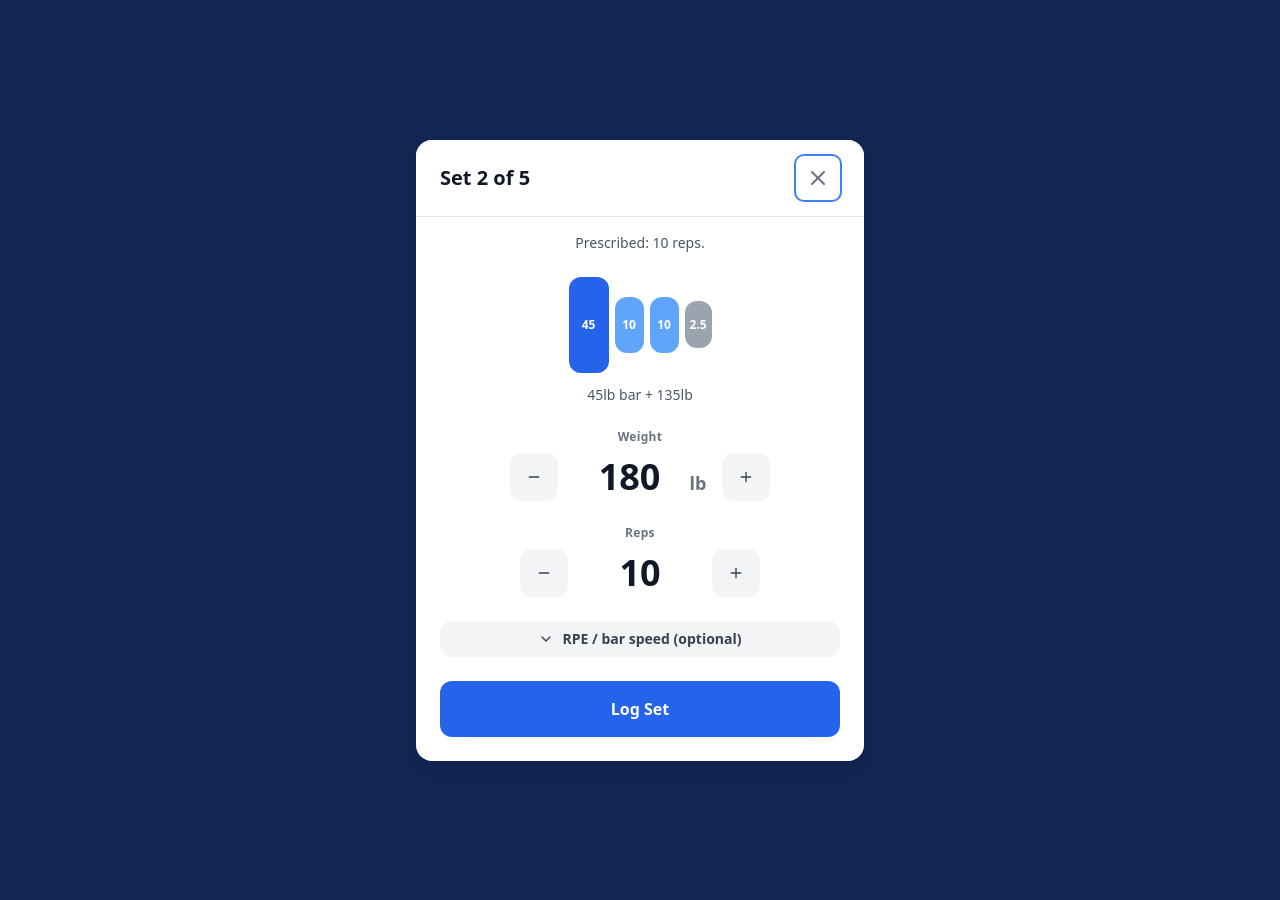
it: WorkingSetModal › steps weight by the plate increment and reps by one
Click the button named "Decrease weight" at (534, 476), box [510,452,558,500]
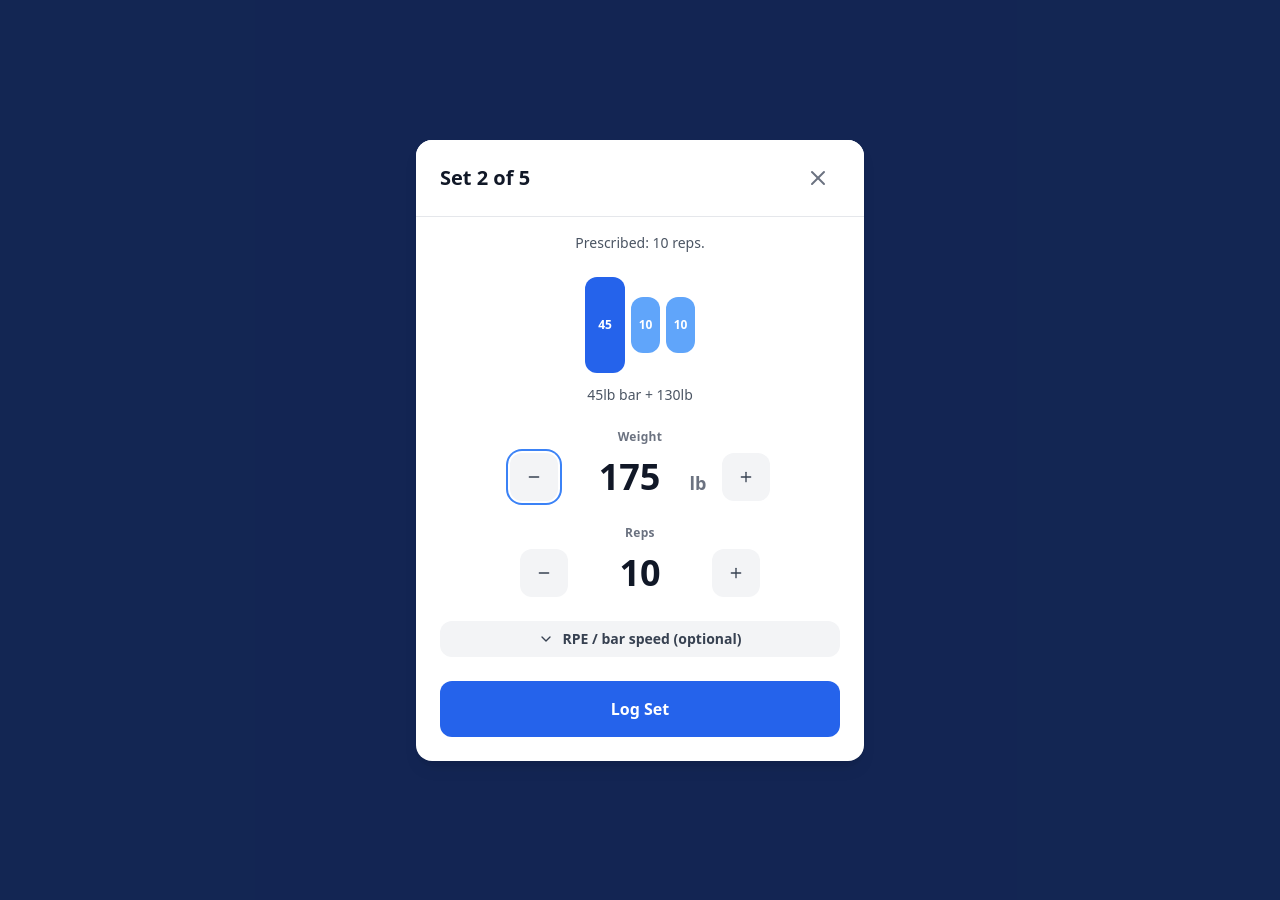
Check: the number field named "Weight" holds "175", box [574,454,686,498]
Click the button named "Increase reps" at (736, 572), box [712,548,760,596]
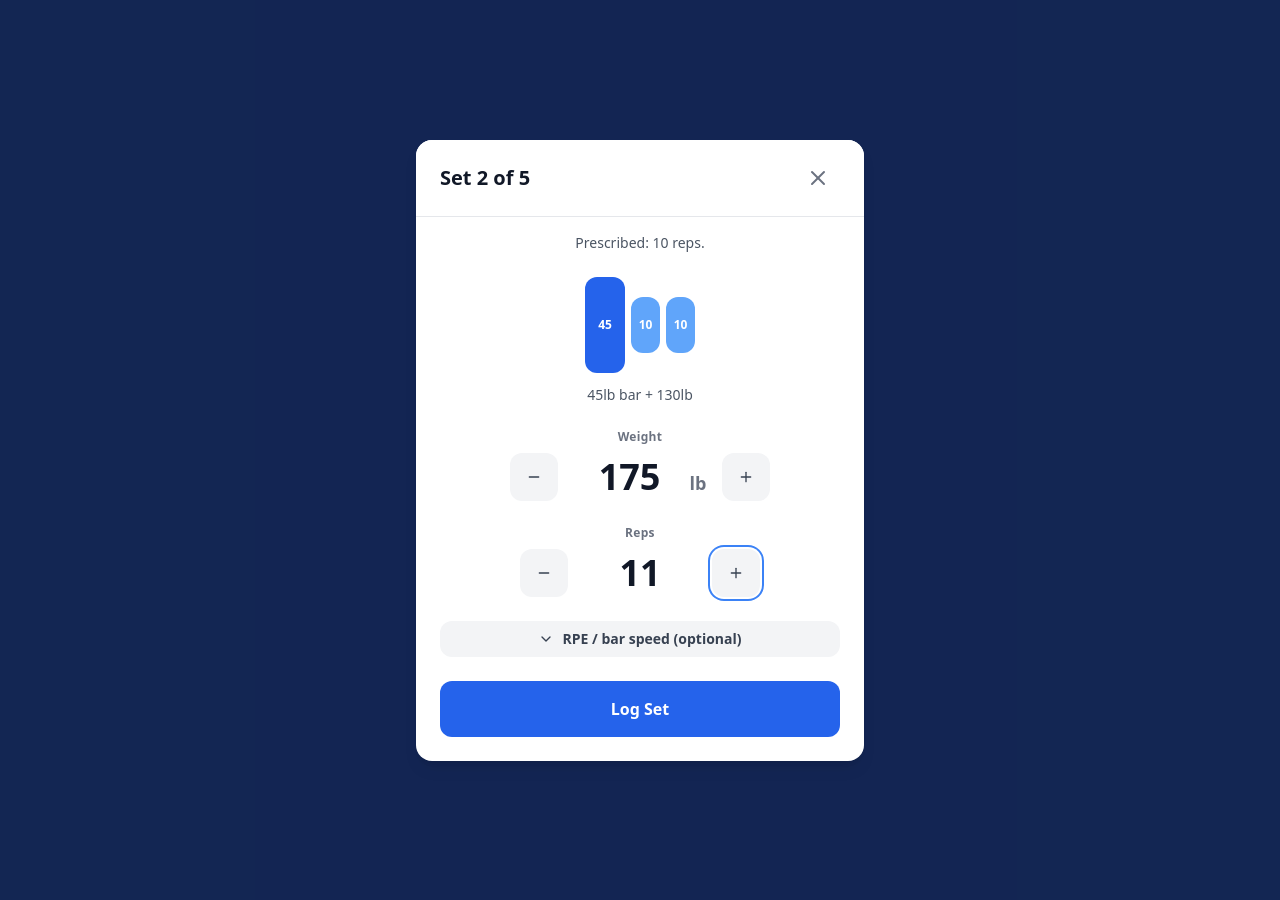
Check: the number field named "Reps" holds "11", box [584,550,696,594]
